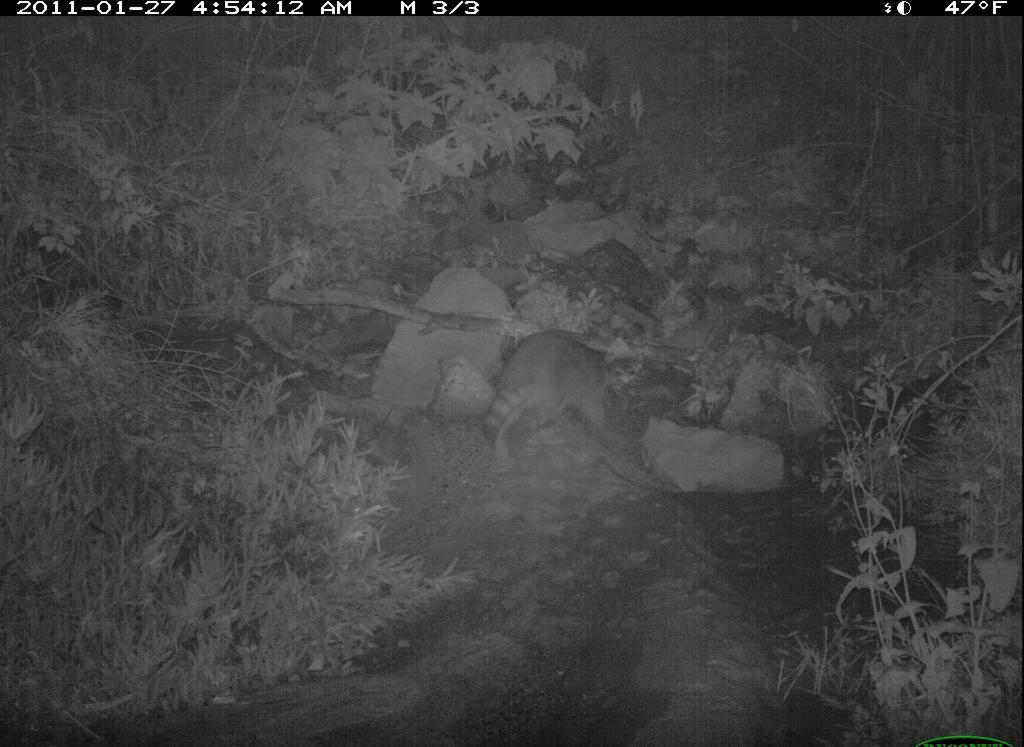raccoon: (475, 306, 635, 461)
